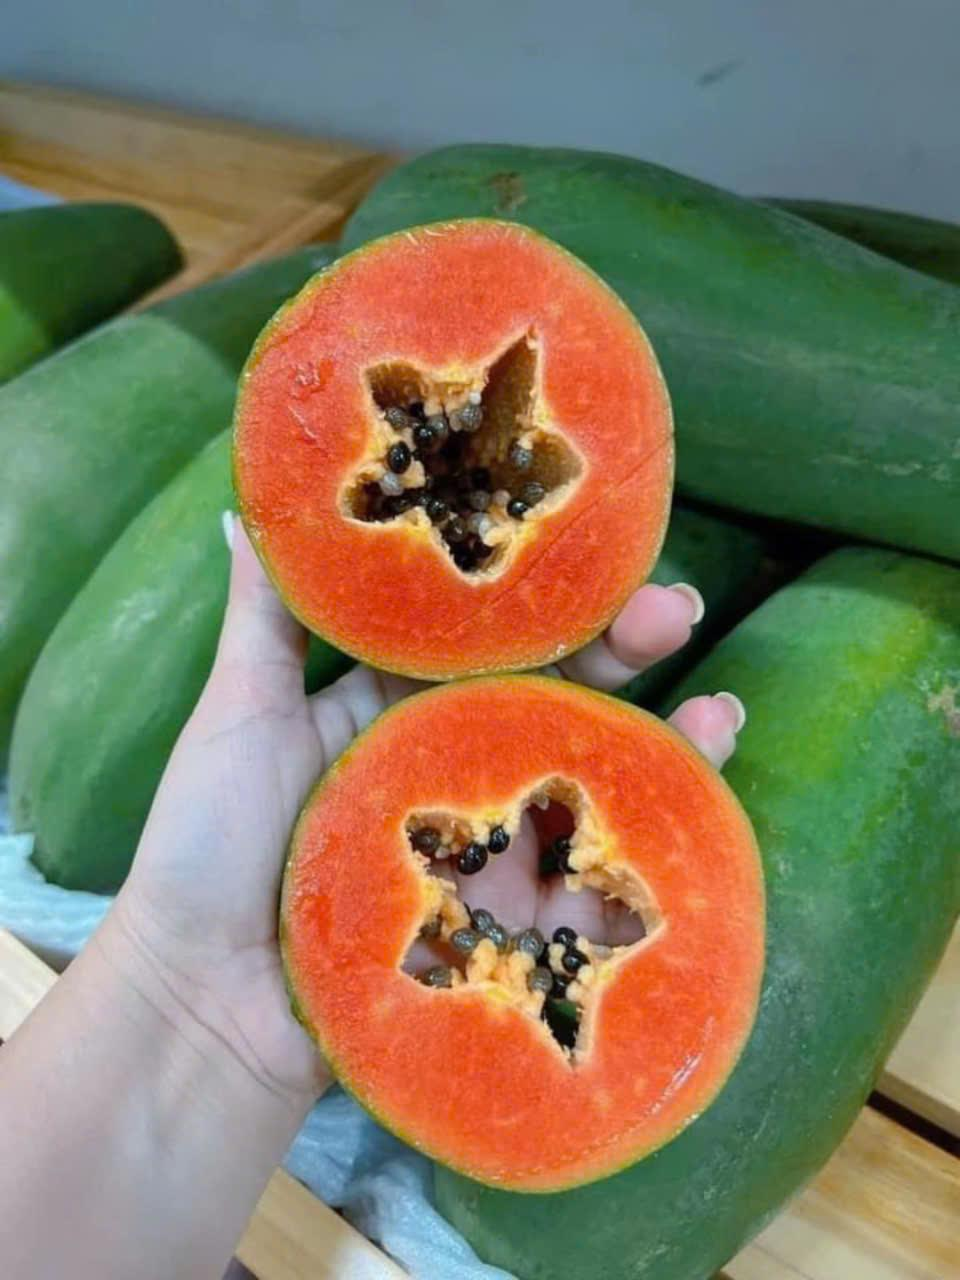papaya: (270, 653, 772, 1164), (200, 185, 700, 688)
